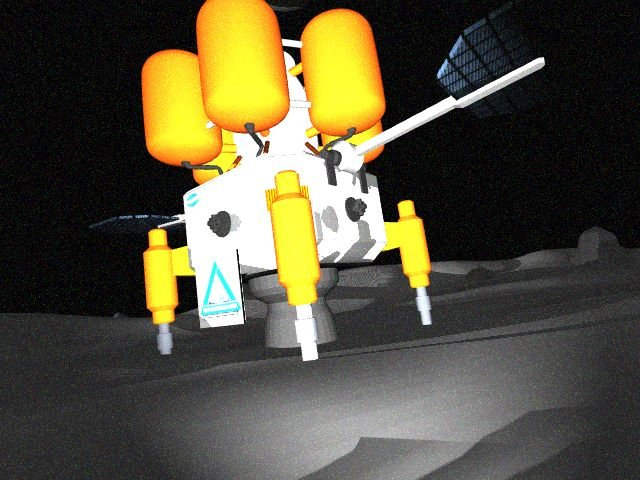basemarker: (200, 259, 243, 319)
